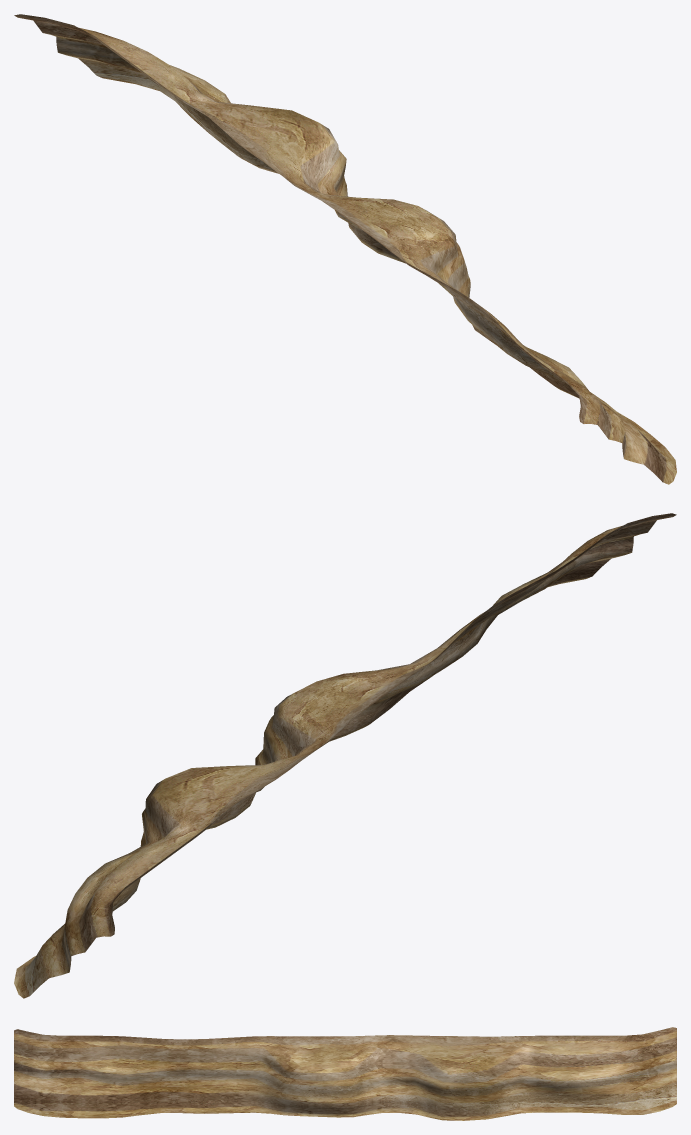
The model's file is mountain_back_01.fbx.
3 renders of one model, top to bottom at view 1: azimuth 30°, elevation 25°; view 2: azimuth 150°, elevation 25°; view 3: azimuth 270°, elevation 25°, orthographic. The views are drawn at different scales.
Visible parts, largest first — view 1: 01-mountain-back; view 2: 01-mountain-back; view 3: 01-mountain-back.
Boxes of the visible parts, x1=… form: 01-mountain-back: x1=14, y1=14, x2=676, y2=484; 01-mountain-back: x1=14, y1=513, x2=676, y2=998; 01-mountain-back: x1=14, y1=1027, x2=676, y2=1120.
Size of the model in its own units: 145 by 86.11 by 971.
1 material, 1 textured.
